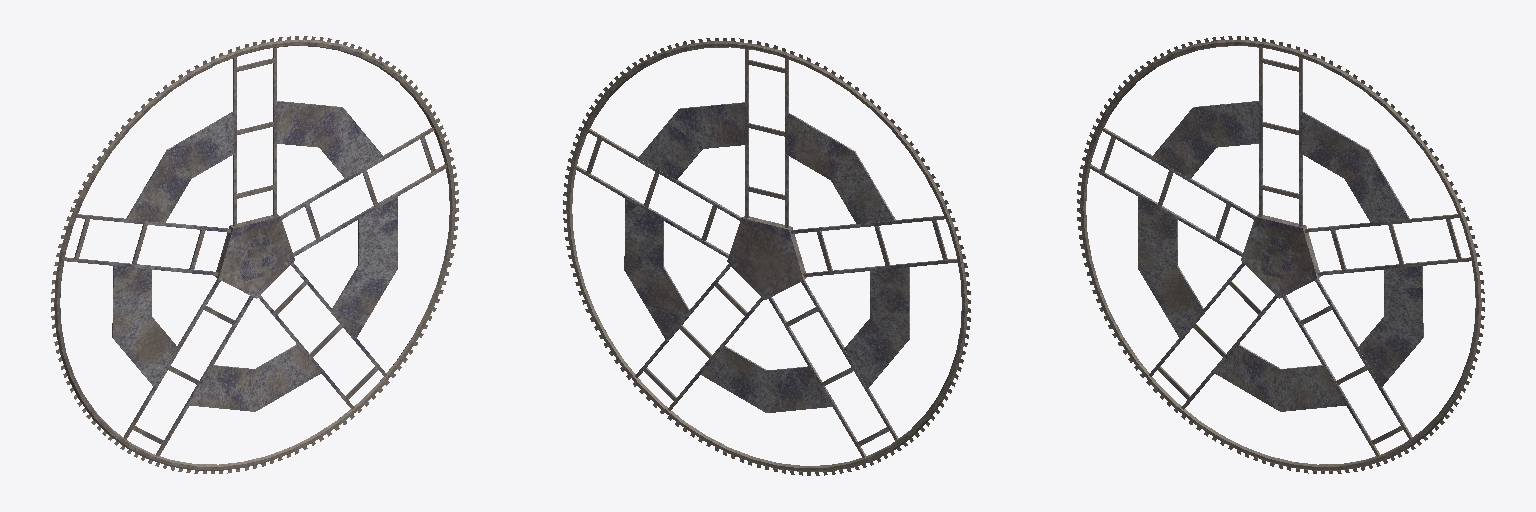
3 views of the same model, side by side, from view 1: azimuth 30°, elevation 25°; view 2: azimuth 150°, elevation 25°; view 3: azimuth 330°, elevation 25° (orthographic).
Visible parts, largest first — view 1: Cube; view 2: Cube; view 3: Cube.
Boxes of the visible parts, x1=… form: Cube: x1=51, y1=36, x2=458, y2=473; Cube: x1=563, y1=38, x2=970, y2=475; Cube: x1=1077, y1=36, x2=1484, y2=473.
Size of the model in its own units: 25.05 by 25.05 by 0.6.
Materials: 1 (1 with a texture image).